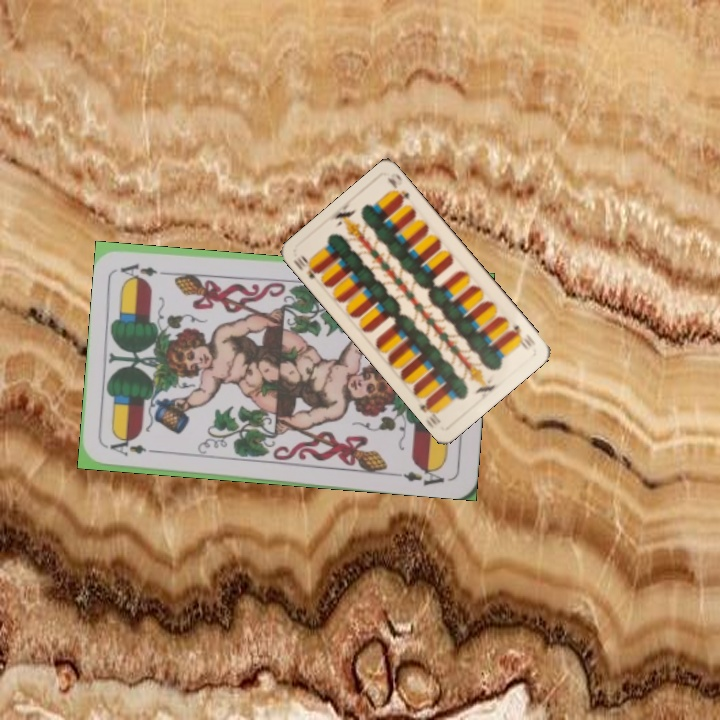E10: (289, 251, 323, 282), (506, 321, 534, 353)
EA: (106, 437, 149, 459)
